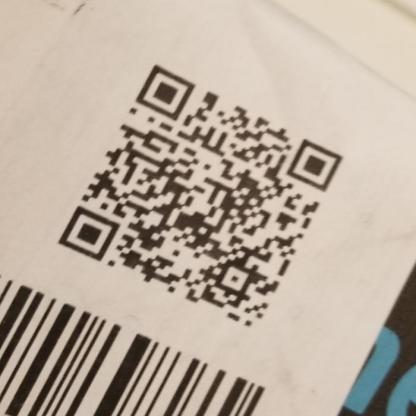barcode: (1, 265, 269, 416)
qr: (63, 60, 352, 333)
